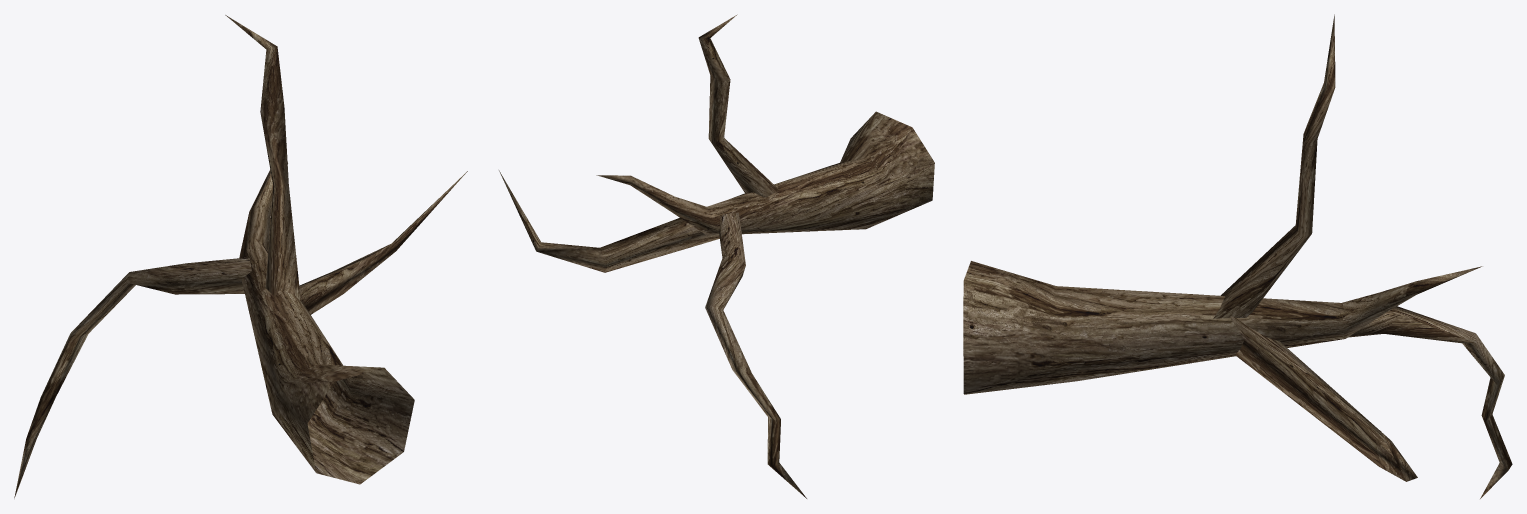
File: MEP_DTree_02.fbx
3 renders of one model, left to right at view 1: azimuth 30°, elevation 25°; view 2: azimuth 150°, elevation 25°; view 3: azimuth 270°, elevation 25°, orthographic. The views are drawn at different scales.
Parts seen in each view (by area): view 1: MEP_DTree_02; view 2: MEP_DTree_02; view 3: MEP_DTree_02.
Boxes of the visible parts, box(x1,y1,x2,y2) form: MEP_DTree_02: box(14, 15, 467, 498); MEP_DTree_02: box(499, 14, 934, 498); MEP_DTree_02: box(963, 14, 1512, 498).
Bounding box in the file's own units: 5.55 × 6.39 × 5.6.
